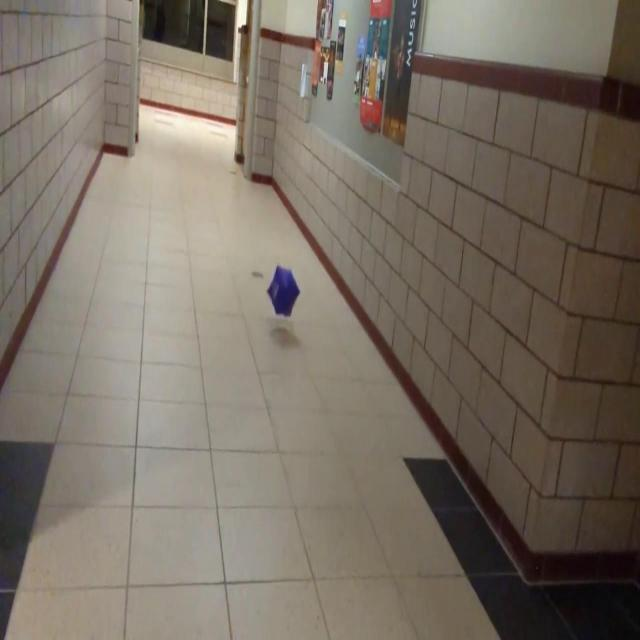frc_cube: (267, 265, 299, 319)
